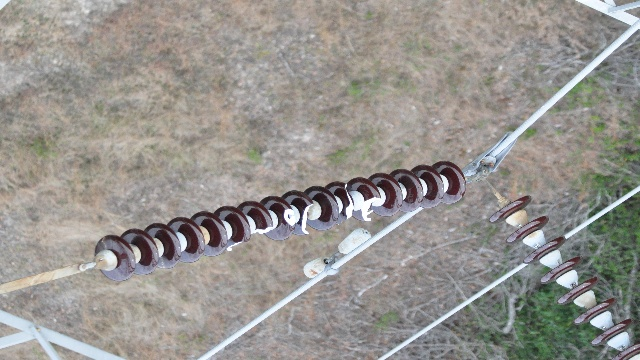broken_local: (363, 194, 379, 223), (300, 202, 314, 235), (343, 182, 353, 223), (227, 237, 250, 252), (251, 224, 273, 238), (284, 208, 295, 226)
insulator_unspecified: (95, 160, 468, 280), (487, 195, 639, 359)
